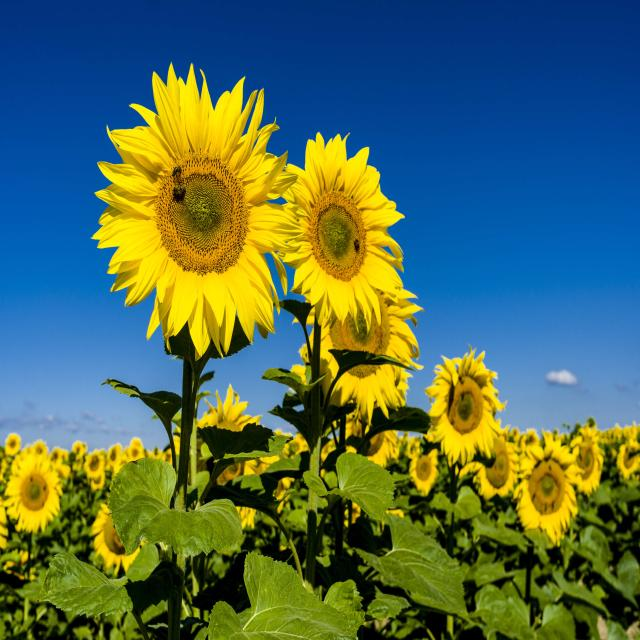sunflower: (78, 50, 296, 360), (275, 124, 400, 328), (424, 338, 497, 467), (511, 434, 581, 536), (81, 490, 163, 576), (1, 449, 68, 535), (564, 417, 610, 498), (407, 439, 447, 501)
